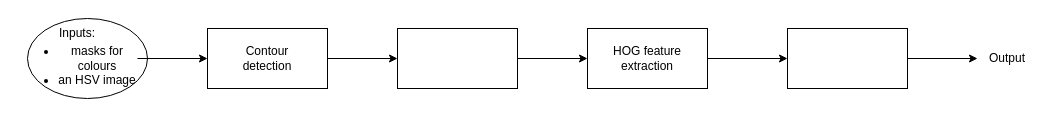
Some shapes in this 1054 by 116 pixel diagram are drawn without their labels. The shapes that lost their labels are listed below. From the top down, each one's centre as x and y in pixels, then its label:
At point (457, 58): "Contour to bounding box conversion".
At point (847, 58): "HOG feature classification (The SVM step)".
